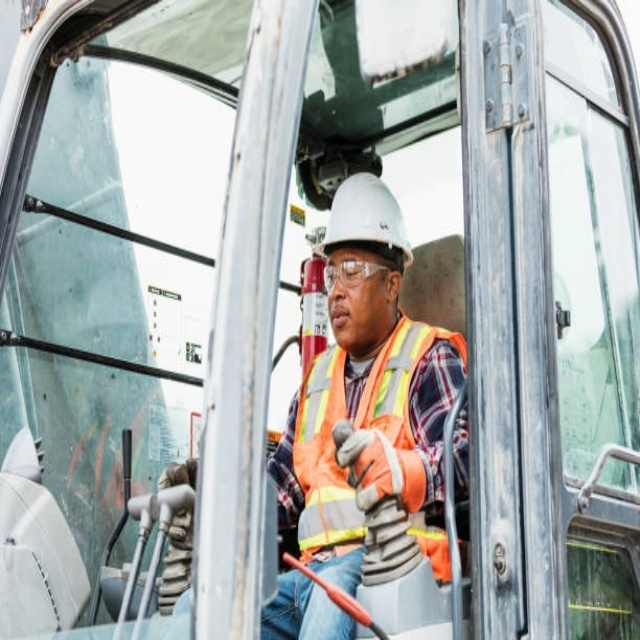Gafas: (322, 258, 393, 290)
Guantes: (335, 425, 427, 522)
Sin_mascara: (327, 303, 356, 334)
